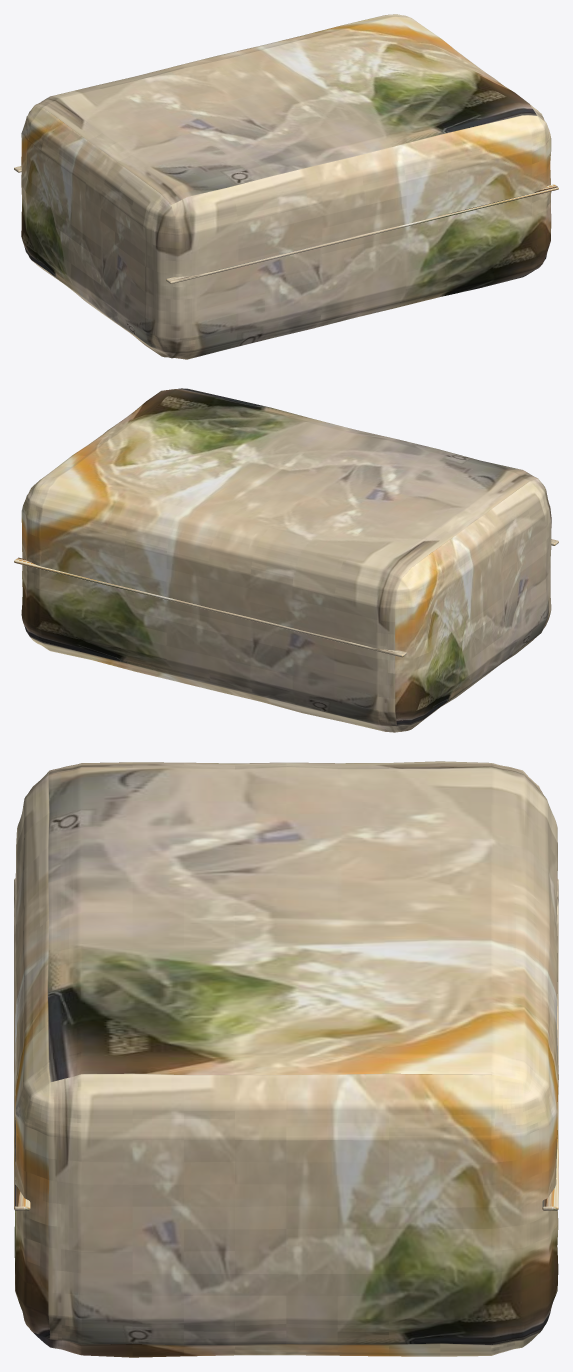
The model's file is fridge_contents__produce_bag.glb.
3 renders of one model, top to bottom at view 1: azimuth 30°, elevation 25°; view 2: azimuth 150°, elevation 25°; view 3: azimuth 270°, elevation 25°, orthographic. The views are drawn at different scales.
Parts seen in each view (by area): view 1: filled flexible wrapper, heat sealed edge; view 2: filled flexible wrapper, heat sealed edge.001; view 3: filled flexible wrapper, heat sealed edge.001, heat sealed edge.
Boxes of the visible parts, box(x1,y1,x2,y2) form: filled flexible wrapper: box(21, 14, 551, 359); heat sealed edge: box(166, 184, 558, 283); filled flexible wrapper: box(21, 388, 551, 732); heat sealed edge.001: box(14, 557, 406, 657); filled flexible wrapper: box(14, 761, 558, 1357); heat sealed edge.001: box(542, 879, 558, 1210); heat sealed edge: box(14, 878, 30, 1210).
Bounding box in the file's own units: 0.246 × 0.1012 × 0.1661.
1 material, 1 textured.
